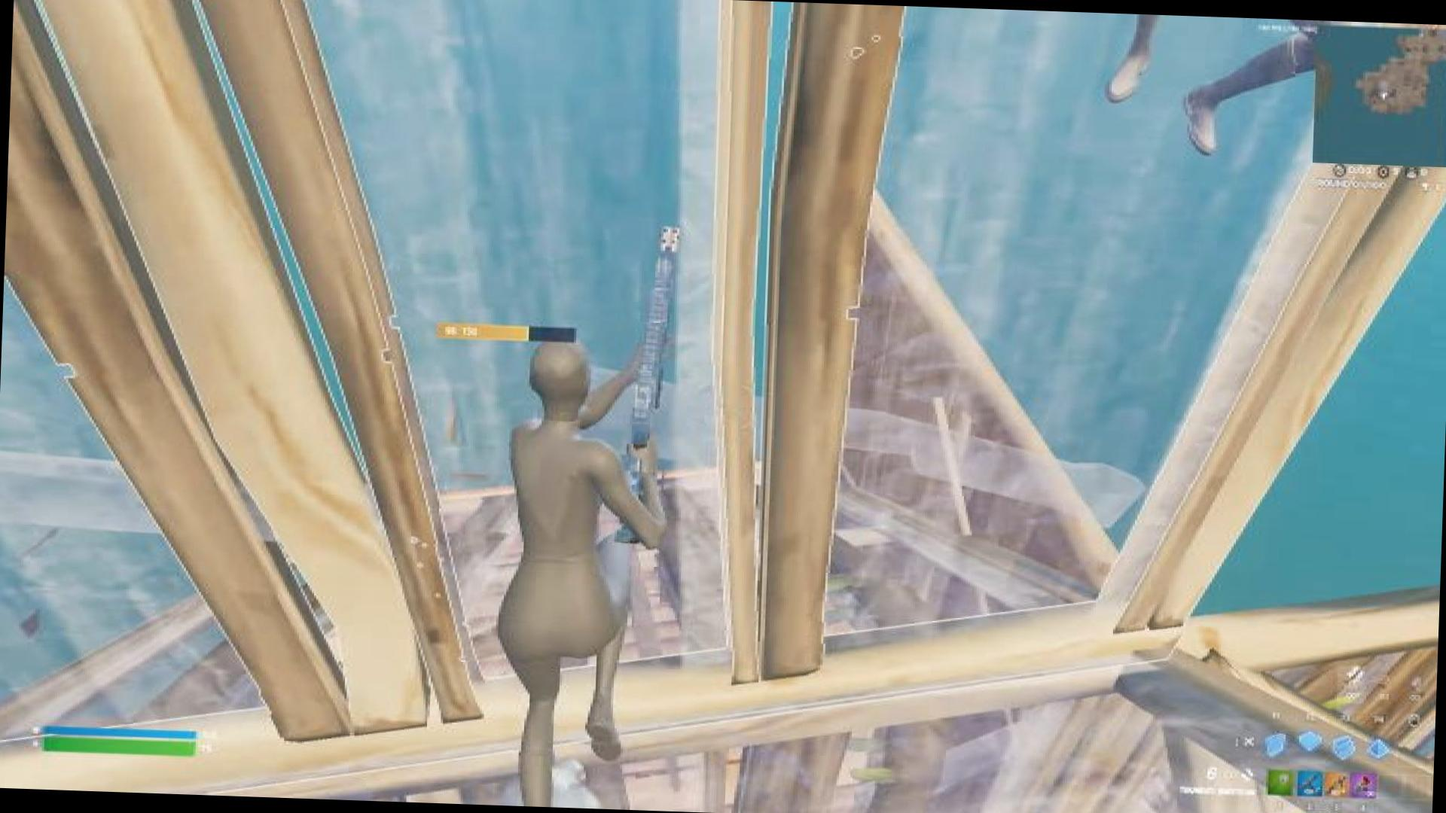player: (1113, 31, 1273, 158)
